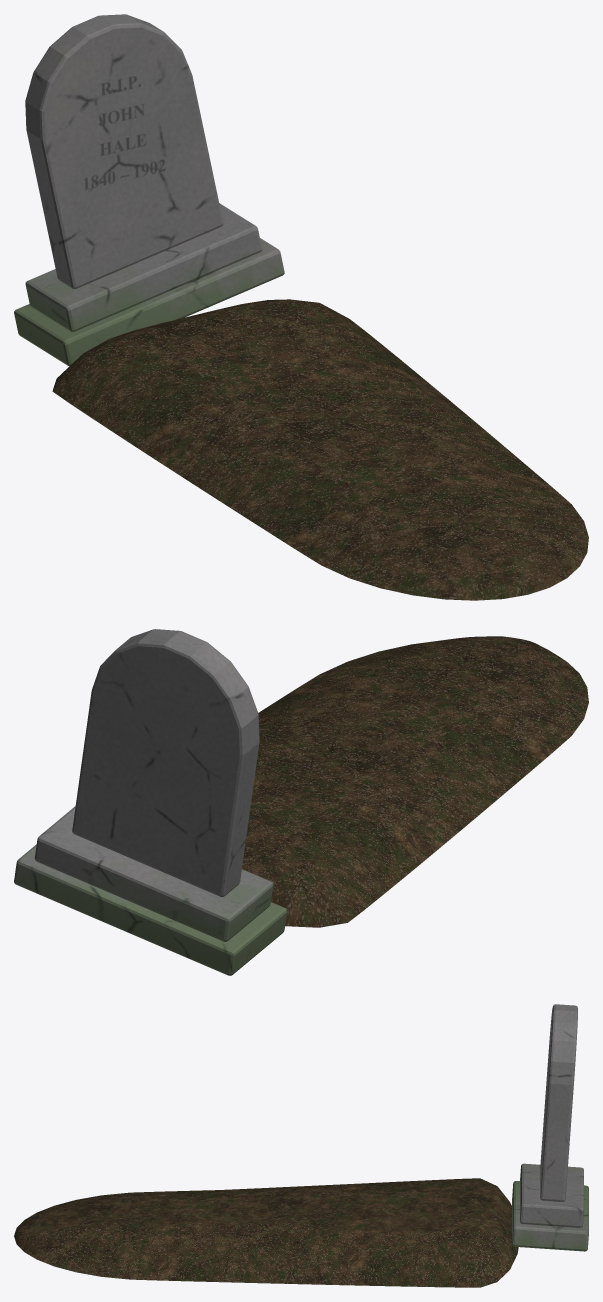
File: gravestone_arch_tilted_a.glb
3 renders of one model, top to bottom at view 1: azimuth 30°, elevation 25°; view 2: azimuth 150°, elevation 25°; view 3: azimuth 270°, elevation 25°, orthographic. The views are drawn at different scales.
Visible parts, largest first — view 1: gravestone_arch_tilted_a; view 2: gravestone_arch_tilted_a; view 3: gravestone_arch_tilted_a.
Part boxes in pixels (bbox=[...]): gravestone_arch_tilted_a: bbox=[14, 14, 588, 600]; gravestone_arch_tilted_a: bbox=[14, 629, 588, 975]; gravestone_arch_tilted_a: bbox=[14, 1004, 588, 1287].
Bounding box in the file's own units: 1.16 × 1.15 × 2.73.
2 materials, 2 textured.
